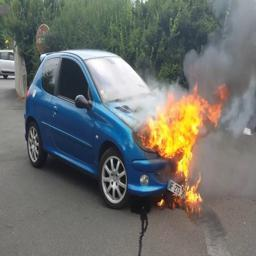fire: (138, 82, 220, 211)
